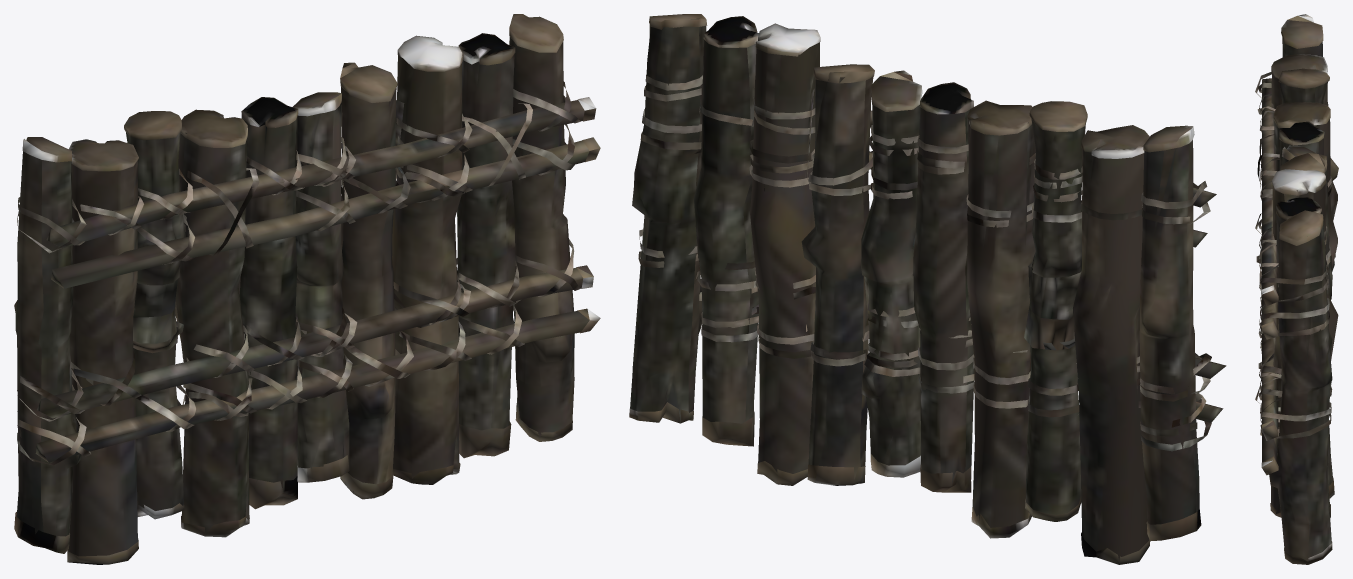
3 views of the same model, side by side, from view 1: azimuth 30°, elevation 25°; view 2: azimuth 150°, elevation 25°; view 3: azimuth 270°, elevation 25° (orthographic). The views are drawn at different scales.
Parts seen in each view (by area): view 1: mesh_0; view 2: mesh_0; view 3: mesh_0.
Boxes of the visible parts, left/top/right/bottom form: mesh_0: left=14, top=14, right=600, bottom=564; mesh_0: left=629, top=14, right=1226, bottom=564; mesh_0: left=1255, top=14, right=1338, bottom=564.
Bounding box in the file's own units: 78.17 × 58.46 × 12.49.
Materials: 1 (1 with a texture image).
